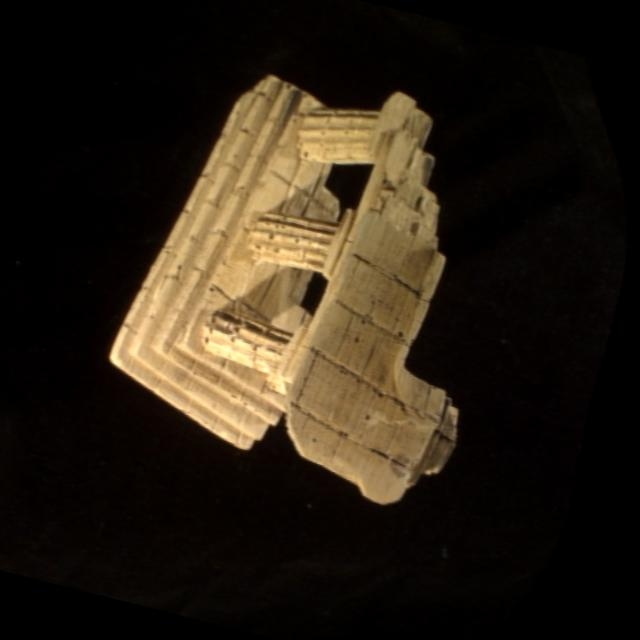Instance-Segmentation: (110, 75, 457, 500)
